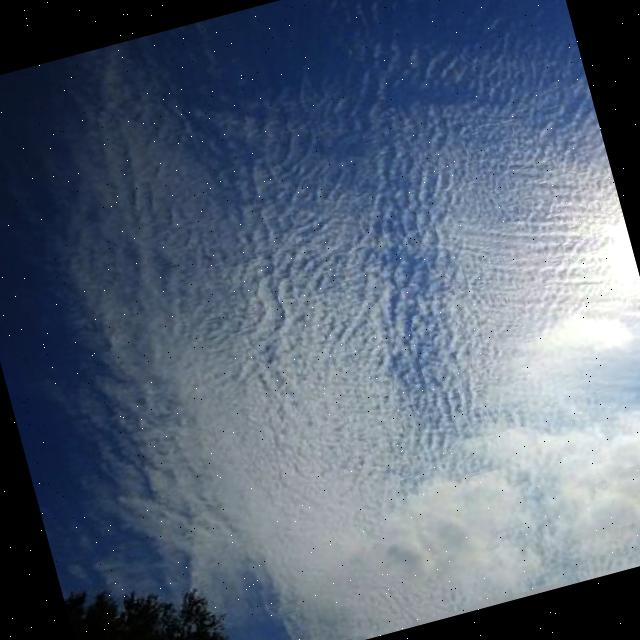Cc: (1, 1, 640, 614)
